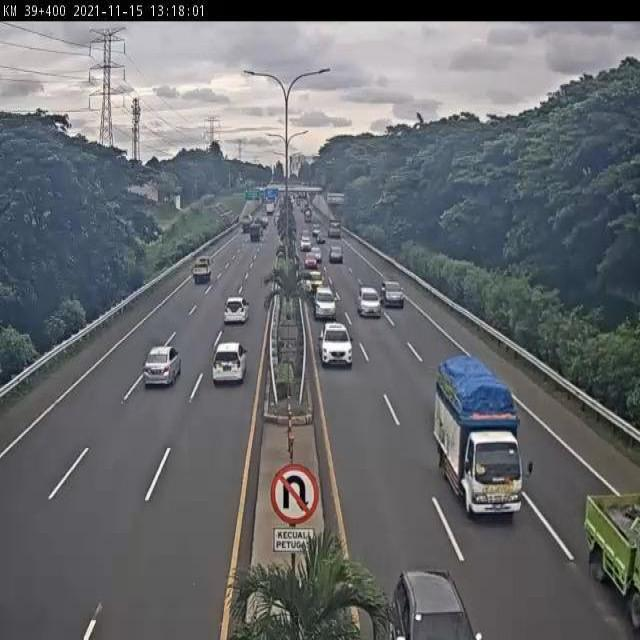car: (318, 320, 355, 372), (211, 337, 248, 388), (144, 345, 183, 388), (222, 295, 249, 331), (357, 284, 382, 319), (313, 284, 336, 321), (382, 279, 406, 308)
truck: (435, 356, 527, 517), (192, 257, 212, 284)
